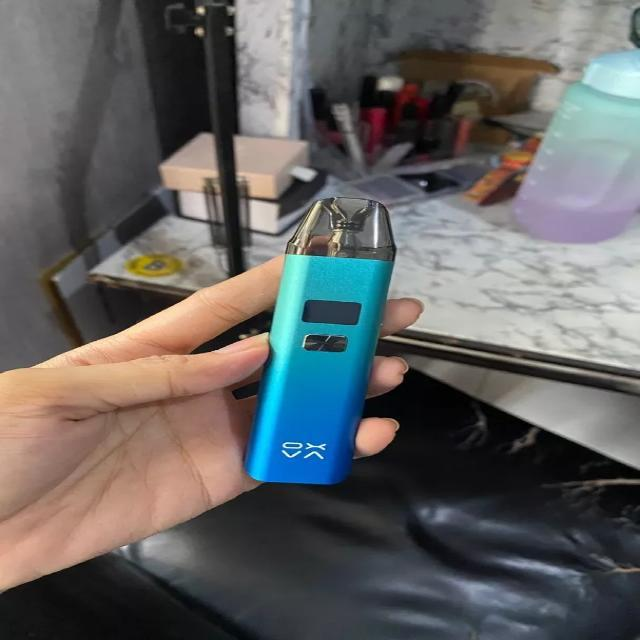Hazard: (242, 196, 400, 482)
